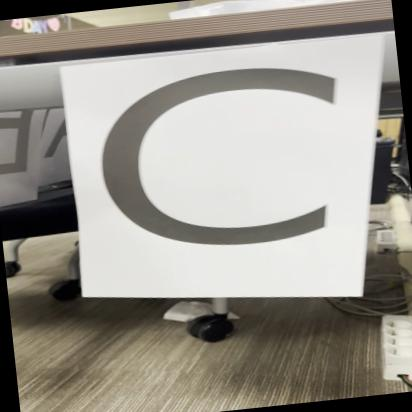seat: (44, 40, 376, 322)
